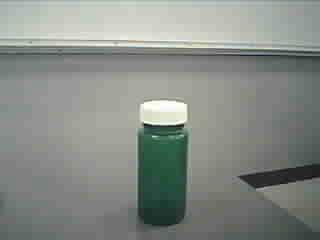Bottle C: (125, 92, 203, 229)
